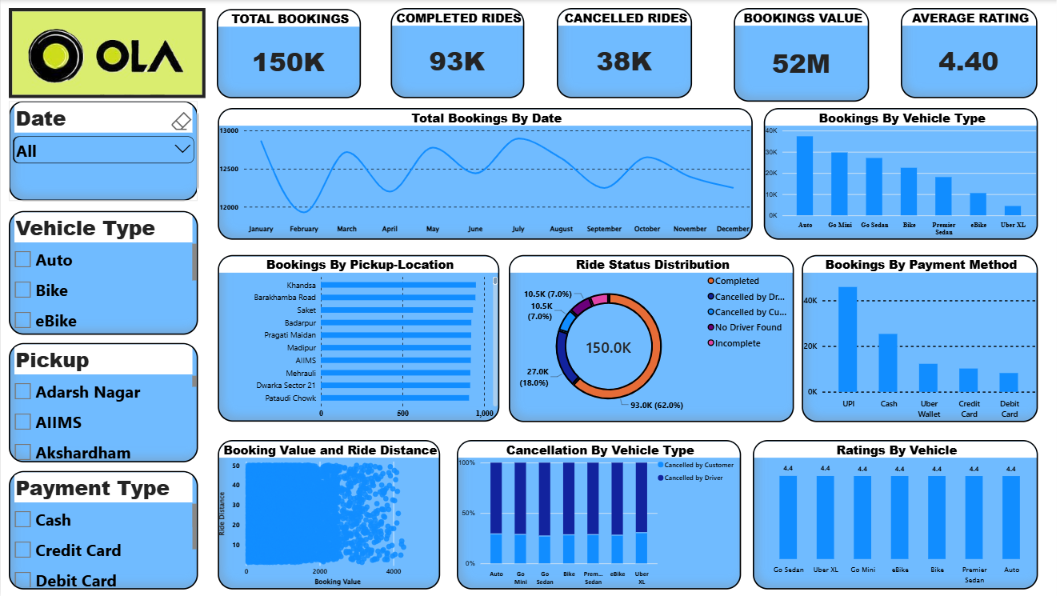

The dashboard page shown, as its layout file describes it:
{"tool":"powerbi","page":{"name":"Page 1","canvas":[1920,1080],"ordinal":0},"visuals":[{"type":"cardVisual","title":"TOTAL BOOKINGS","fields":{"Data":["CountNonNull(rideBookings.Booking ID)"]},"box":[391.1,15.6,260.7,161.5],"z":0},{"type":"cardVisual","title":"COMPLETED RIDES","fields":{"Data":["Count(rideBookings.Booking ID)"]},"box":[706.3,13.6,241.3,163.4],"z":1000},{"type":"cardVisual","title":"CANCELLED RIDES","fields":{"Data":["CountNonNull(rideBookings.Booking ID)"]},"box":[1005.9,13.6,245.2,163.4],"z":2000},{"type":"cardVisual","title":"BOOKINGS VALUE","fields":{"Data":["Sum(rideBookings.Booking Value)"]},"box":[1327,13.6,245.2,169.3],"z":3000},{"type":"cardVisual","title":"AVERAGE RATING","fields":{"Data":["Avg(rideBookings.Customer Rating)"]},"box":[1628.5,13.6,247.1,163.4],"z":4000},{"type":"slicer","fields":{"Values":["rideBookings.Date"]},"box":[13.6,182.9,342.4,180.9],"z":5000},{"type":"slicer","fields":{"Values":["rideBookings.Vehicle Type"]},"box":[13.6,381.4,342.4,223.8],"z":6000},{"type":"slicer","fields":{"Values":["rideBookings.Pickup Location"]},"box":[13.6,620.7,342.4,216],"z":7000},{"type":"slicer","fields":{"Values":["rideBookings.Payment Method"]},"box":[13.6,852.2,342.4,214],"z":8000},{"type":"image","box":[13.6,13.6,356.1,163.4],"z":9000},{"type":"lineChart","title":"Total Bookings By Date","fields":{"Category":["rideBookings.Date.Variation.Date Hierarchy.Month"],"Y":["rideBookings.Total Bookings"]},"box":[392,196,968,238],"z":10000},{"type":"donutChart","title":"Ride Status Distribution","fields":{"Category":["rideBookings.Booking Status"],"Y":["CountNonNull(rideBookings.Booking ID)"]},"box":[920,462,516,302],"z":11000},{"type":"lineClusteredColumnComboChart","title":"Bookings By Vehicle Type","fields":{"Category":["rideBookings.Vehicle Type"],"Y":["Count(rideBookings.Booking ID)"]},"box":[1380,196,496,238],"z":12000},{"type":"clusteredColumnChart","title":"Bookings By Payment Method","fields":{"Category":["rideBookings.Payment Method"],"Y":["CountNonNull(rideBookings.Booking ID)"]},"box":[1449.5,461.5,427.1,302.2],"z":13000},{"type":"clusteredBarChart","title":"Bookings By Pickup-Location","fields":{"Category":["rideBookings.Pickup Location"],"Y":["Count(rideBookings.Booking ID)"]},"box":[392,462,509.8,301.6],"z":14000},{"type":"hundredPercentStackedColumnChart","title":"Cancellation By Vehicle Type","fields":{"Category":["rideBookings.Vehicle Type"],"Series":["rideBookings.Booking Status"],"Y":["CountNonNull(rideBookings.Booking ID)"]},"box":[826,796,514,270],"z":15000},{"type":"scatterChart","fields":{"X":["rideBookings.Booking Value"],"Y":["rideBookings.Ride Distance"]},"box":[392,796,402,270],"z":16000},{"type":"clusteredColumnChart","title":"Ratings By Vehicle ","fields":{"Category":["rideBookings.Vehicle Type"],"Y":["Avg(rideBookings.Customer Rating)"]},"box":[1360,796,516,270],"z":17000}]}

Visuals, with their boxes in screenshot pixels (x1, y1, x2, y2), scaled from the page's 1920x1080 canvas onto the 1057x596 screenshot:
"TOTAL BOOKINGS" cardVisual: Rect(215, 9, 359, 98)
"COMPLETED RIDES" cardVisual: Rect(389, 8, 522, 98)
"CANCELLED RIDES" cardVisual: Rect(554, 8, 689, 98)
"BOOKINGS VALUE" cardVisual: Rect(731, 8, 866, 101)
"AVERAGE RATING" cardVisual: Rect(897, 8, 1033, 98)
slicer - rideBookings.Date: Rect(7, 101, 196, 201)
slicer - rideBookings.Vehicle Type: Rect(7, 210, 196, 334)
slicer - rideBookings.Pickup Location: Rect(7, 343, 196, 462)
slicer - rideBookings.Payment Method: Rect(7, 470, 196, 588)
image: Rect(7, 8, 204, 98)
"Total Bookings By Date" lineChart: Rect(216, 108, 749, 240)
"Ride Status Distribution" donutChart: Rect(506, 255, 791, 422)
"Bookings By Vehicle Type" lineClusteredColumnComboChart: Rect(760, 108, 1033, 240)
"Bookings By Payment Method" clusteredColumnChart: Rect(798, 255, 1033, 421)
"Bookings By Pickup-Location" clusteredBarChart: Rect(216, 255, 496, 421)
"Cancellation By Vehicle Type" hundredPercentStackedColumnChart: Rect(455, 439, 738, 588)
scatterChart - rideBookings.Booking Value x rideBookings.Ride Distance: Rect(216, 439, 437, 588)
"Ratings By Vehicle " clusteredColumnChart: Rect(749, 439, 1033, 588)
